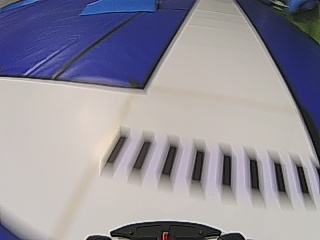CrossWalk: (102, 140, 310, 200)
